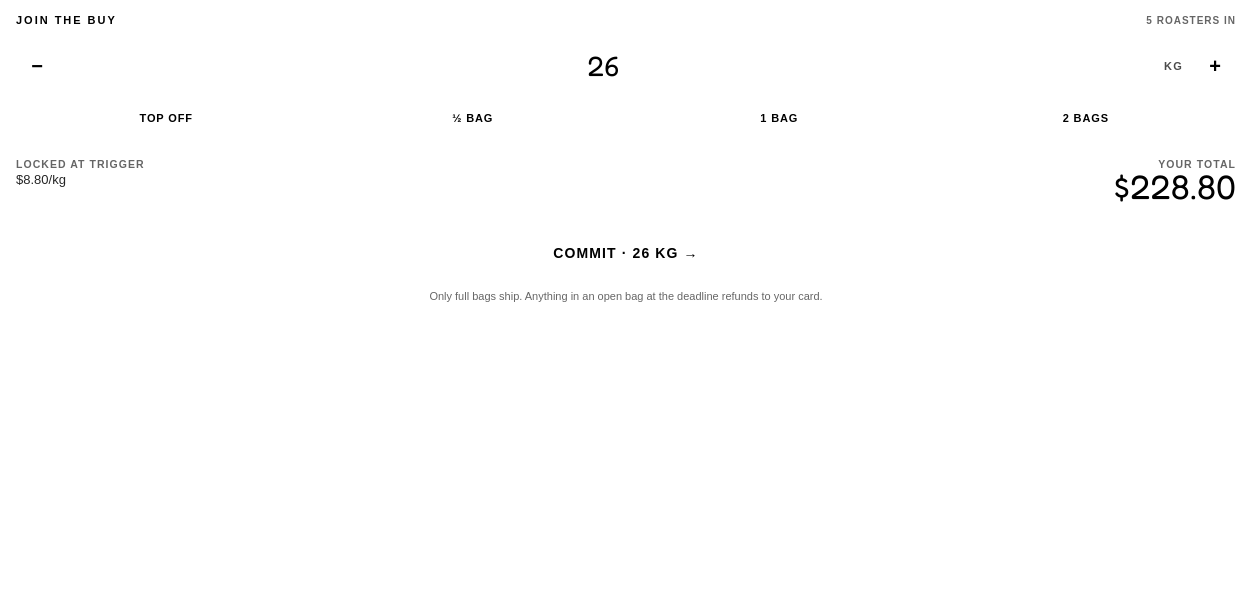
Scenario: CampaignCommitForm — bag-aware (commit flow) › CommitSplitWarning surfaces (with refund copy) when qty crosses the bag boundary
This screenshot has width=1259, height=603.
Replace the text in the number field named "quantity in kilograms" with "50" at [611, 66], box [68, 40, 1154, 92]
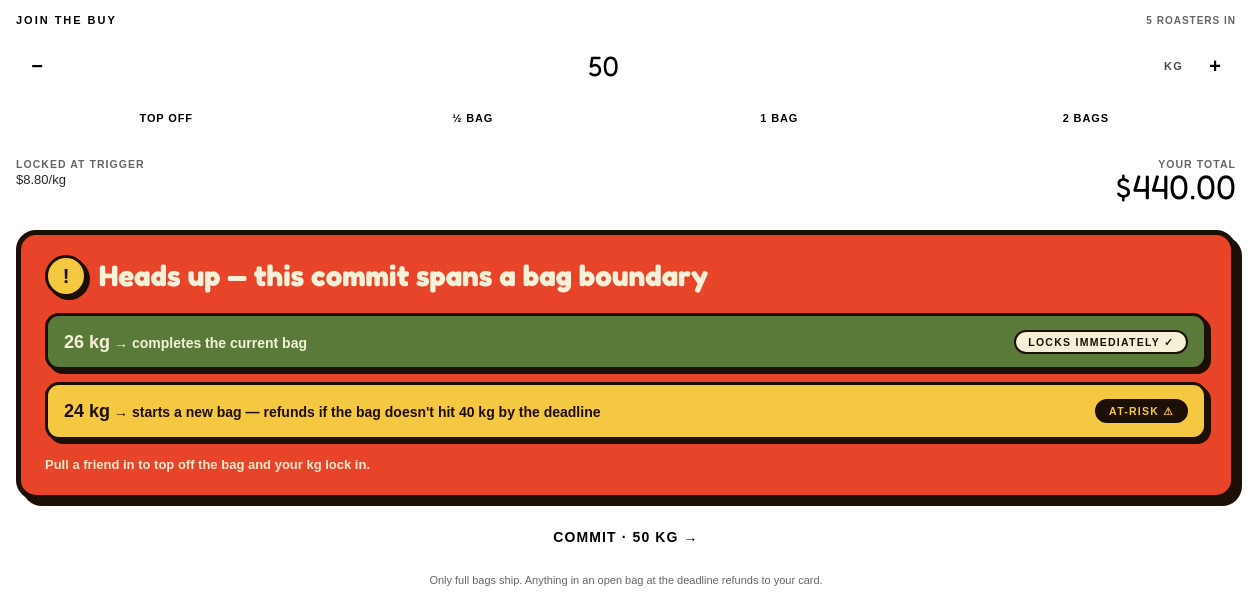
Expected: the message is shown, [16, 230, 1236, 500]
Expected: the heading "Heads up — this commit spans a bag boundary" is shown, [99, 261, 708, 291]
